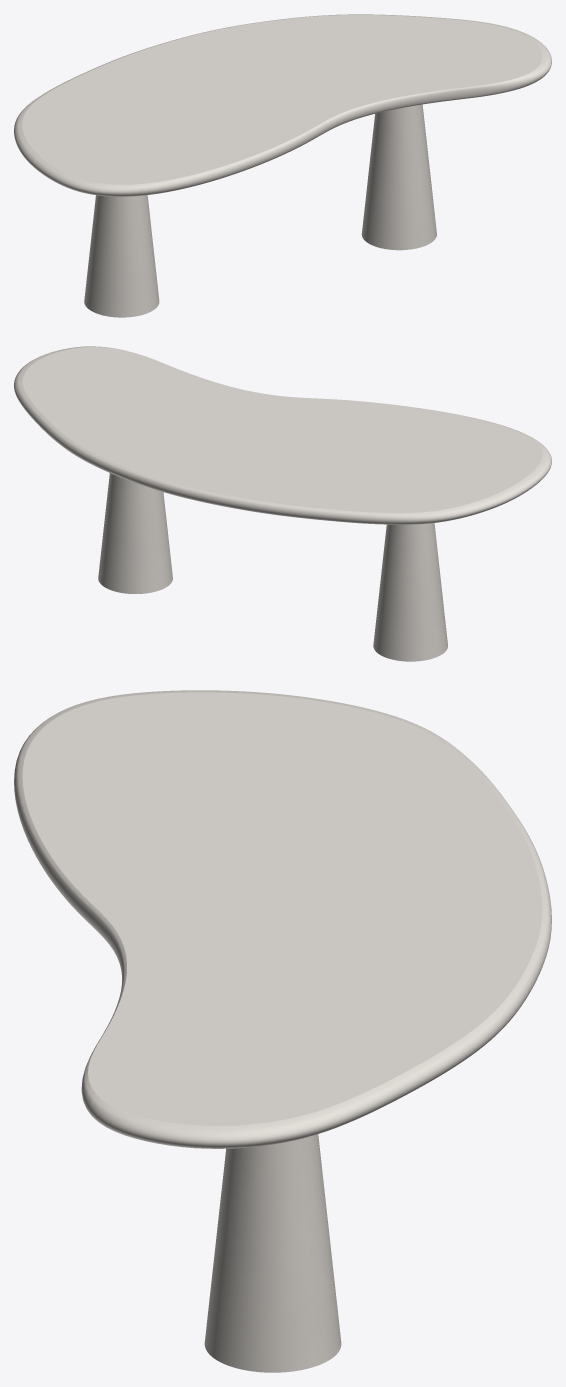
Rendered from pearlwhite_leaf1_round_pebble.glb.
3 views of the same model, one above another, from view 1: azimuth 30°, elevation 25°; view 2: azimuth 150°, elevation 25°; view 3: azimuth 270°, elevation 25° (orthographic). The views are drawn at different scales.
Parts seen in each view (by area): view 1: round_leaf1, pebble; view 2: round_leaf1, pebble; view 3: round_leaf1, pebble.
Part boxes in pixels (x1=…): round_leaf1: x1=14, y1=14, x2=551, y2=196; pebble: x1=84, y1=104, x2=436, y2=317; round_leaf1: x1=14, y1=346, x2=551, y2=524; pebble: x1=98, y1=473, x2=447, y2=661; round_leaf1: x1=14, y1=690, x2=551, y2=1148; pebble: x1=204, y1=1134, x2=341, y2=1372.
Size of the model in its own units: 7.5 by 2.51 by 3.8.
1 material, 1 textured.
